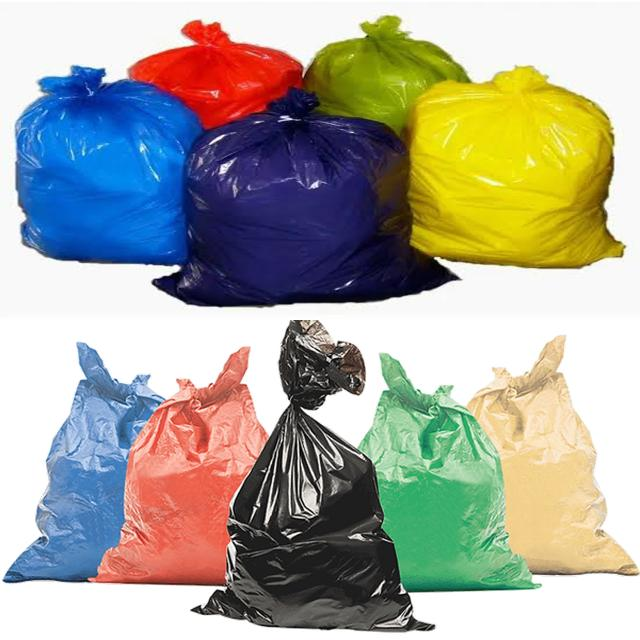Single-layer Plastic: (195, 321, 434, 630), (154, 89, 456, 306), (408, 66, 624, 268), (359, 354, 538, 591), (90, 348, 268, 584), (468, 336, 639, 574), (4, 342, 164, 582), (16, 66, 202, 264), (304, 16, 470, 135), (129, 20, 302, 129)
